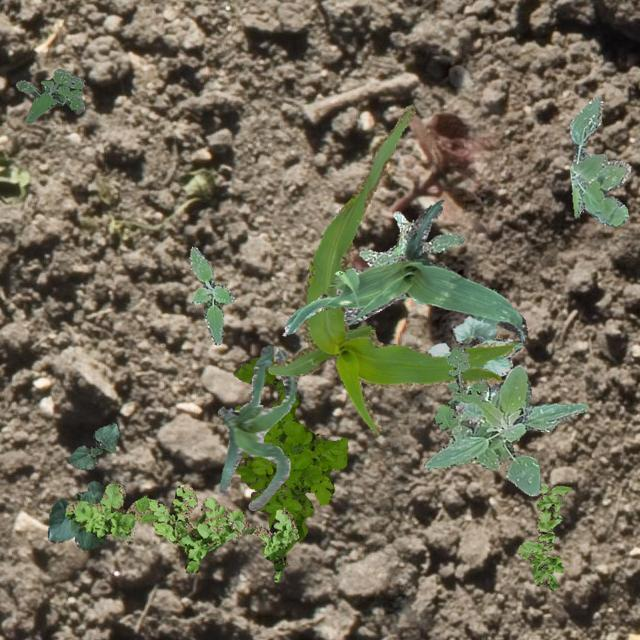crop: (266, 104, 516, 434), (283, 198, 526, 339), (422, 364, 588, 494), (217, 343, 296, 510), (426, 316, 522, 374), (46, 480, 106, 550), (66, 422, 118, 468)
weed: (65, 482, 298, 580), (232, 356, 346, 554), (568, 96, 630, 226), (358, 210, 464, 266), (516, 482, 570, 590), (432, 344, 488, 430), (188, 245, 234, 344), (15, 68, 84, 122)
